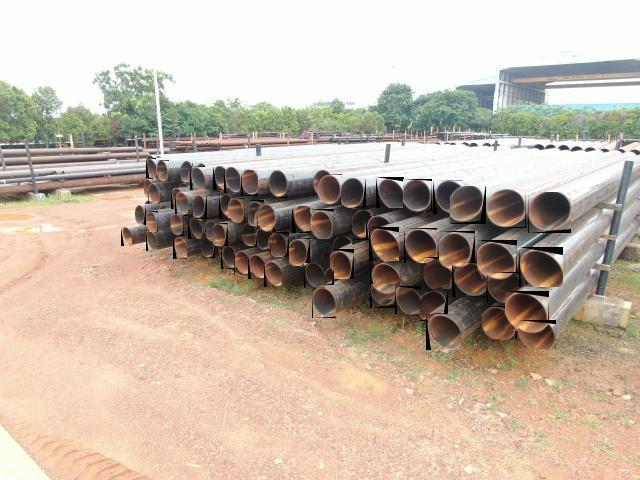pipe: (528, 192, 571, 233), (519, 247, 563, 287), (505, 292, 549, 331), (478, 240, 518, 279), (486, 189, 526, 228), (450, 186, 486, 224), (440, 231, 476, 268), (426, 314, 461, 350), (452, 264, 486, 298), (404, 228, 437, 263), (482, 306, 517, 339), (488, 272, 524, 303), (518, 320, 556, 349), (369, 228, 399, 262), (370, 263, 400, 296), (433, 180, 462, 214), (424, 257, 454, 289), (403, 180, 432, 212), (376, 177, 404, 208), (420, 292, 448, 321), (341, 178, 366, 208), (395, 286, 421, 314), (312, 288, 336, 318), (310, 209, 334, 239), (318, 174, 342, 204), (330, 249, 354, 279), (352, 210, 373, 240), (370, 284, 395, 308), (289, 238, 310, 266), (366, 216, 390, 240), (268, 170, 288, 198), (292, 206, 312, 233), (304, 263, 325, 288), (313, 169, 331, 197), (257, 205, 275, 232), (264, 261, 282, 287), (271, 232, 289, 257), (241, 170, 258, 196), (228, 198, 245, 223), (224, 168, 240, 194), (248, 200, 264, 226), (248, 255, 265, 279), (234, 251, 250, 275), (242, 222, 258, 246), (257, 226, 273, 250), (190, 166, 205, 191), (213, 223, 228, 246), (221, 246, 236, 269), (193, 195, 207, 219), (213, 166, 226, 191), (332, 237, 352, 253), (175, 192, 188, 216), (170, 214, 184, 236), (173, 237, 187, 259), (188, 217, 202, 239), (201, 237, 215, 258), (219, 195, 231, 219), (156, 160, 169, 181), (181, 161, 193, 183), (148, 183, 160, 204), (146, 211, 158, 232), (205, 220, 216, 242), (146, 158, 156, 180), (135, 205, 146, 225), (146, 232, 157, 252), (171, 188, 181, 209), (121, 227, 132, 246), (144, 178, 153, 198), (324, 268, 334, 285)
